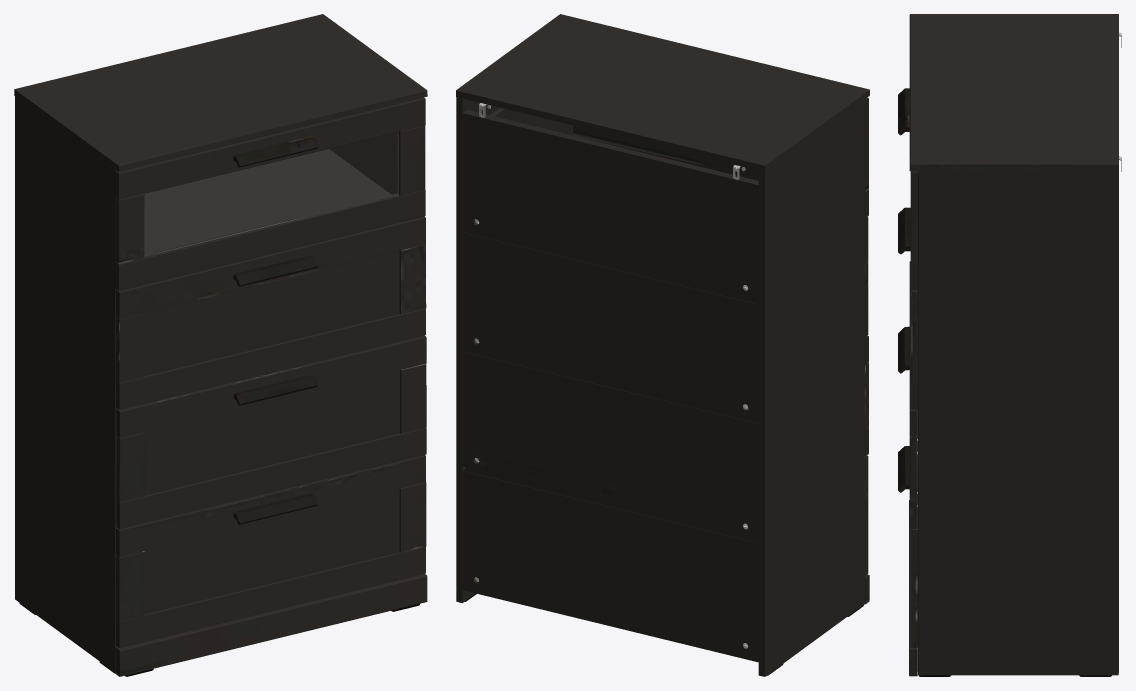
The picture shows the model from 3 angles, left to right: view 1: azimuth 30°, elevation 25°; view 2: azimuth 150°, elevation 25°; view 3: azimuth 270°, elevation 25°; orthographic projection.
Parts seen in each view (by area): view 1: ASY_ART_70574245_S02_NV01; view 2: ASY_ART_70574245_S02_NV01; view 3: ASY_ART_70574245_S02_NV01.
Part boxes in pixels (box(x1,y1,x2,y2)): ASY_ART_70574245_S02_NV01: box(14, 14, 427, 676); ASY_ART_70574245_S02_NV01: box(456, 14, 869, 676); ASY_ART_70574245_S02_NV01: box(898, 14, 1121, 676).
Bounding box in the file's own units: 0.7821 × 1.24 × 0.4903.
2 materials, 2 textured.
